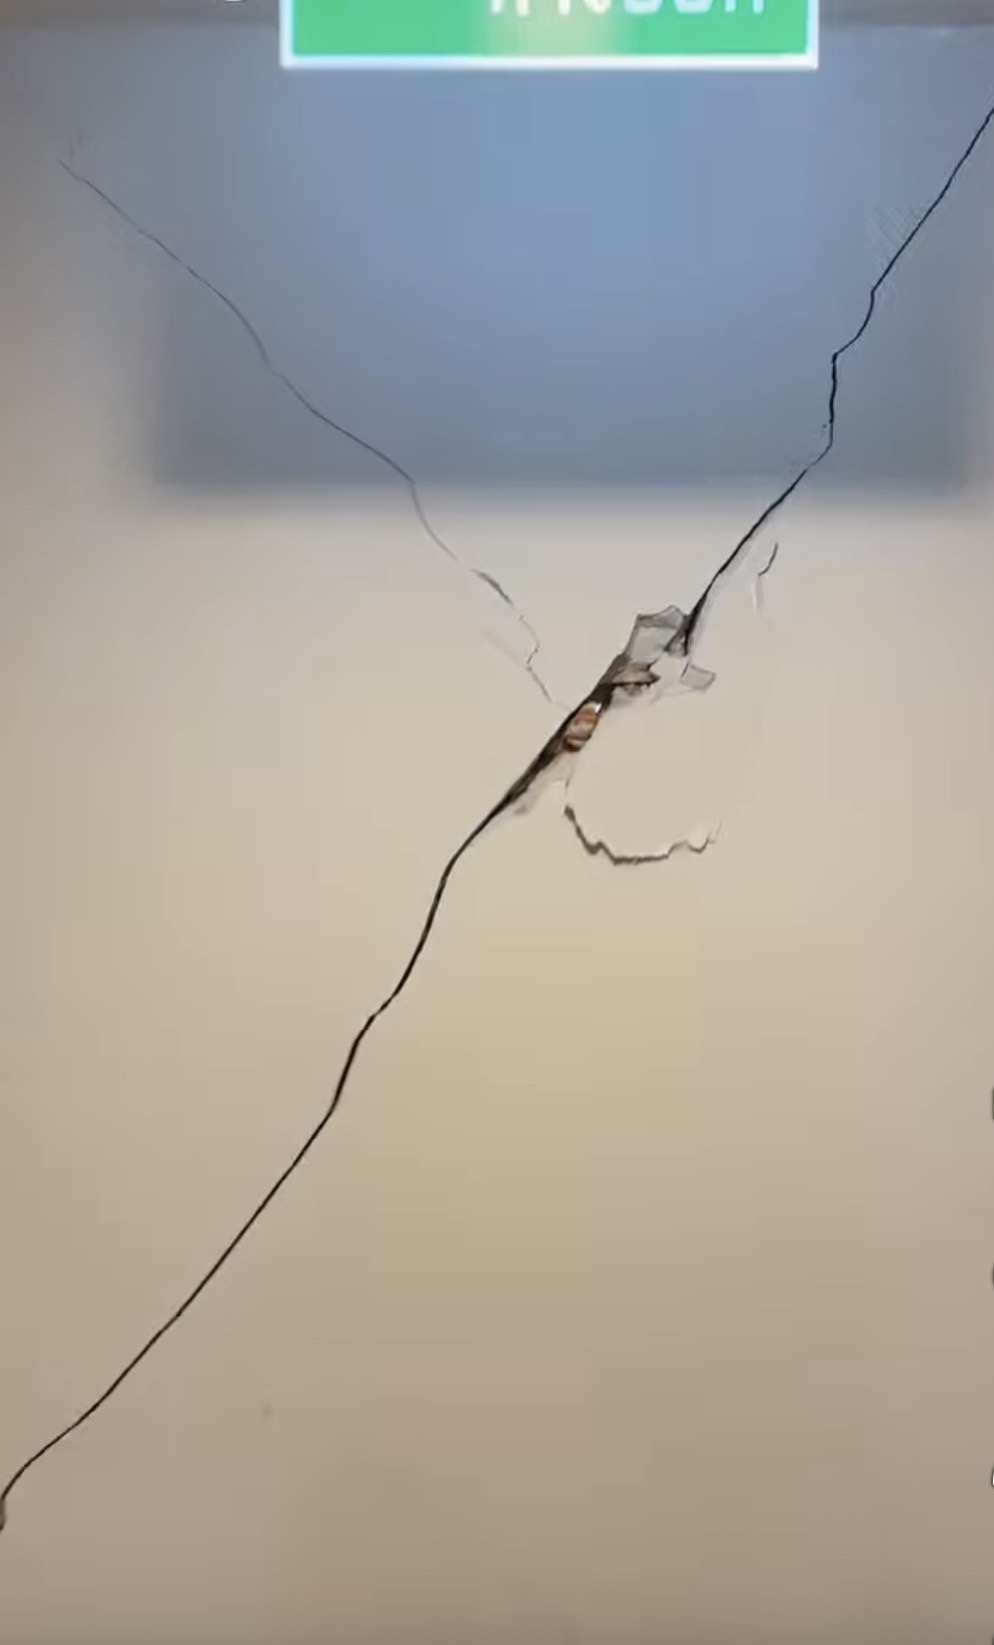Medium: (172, 429, 924, 1169)
